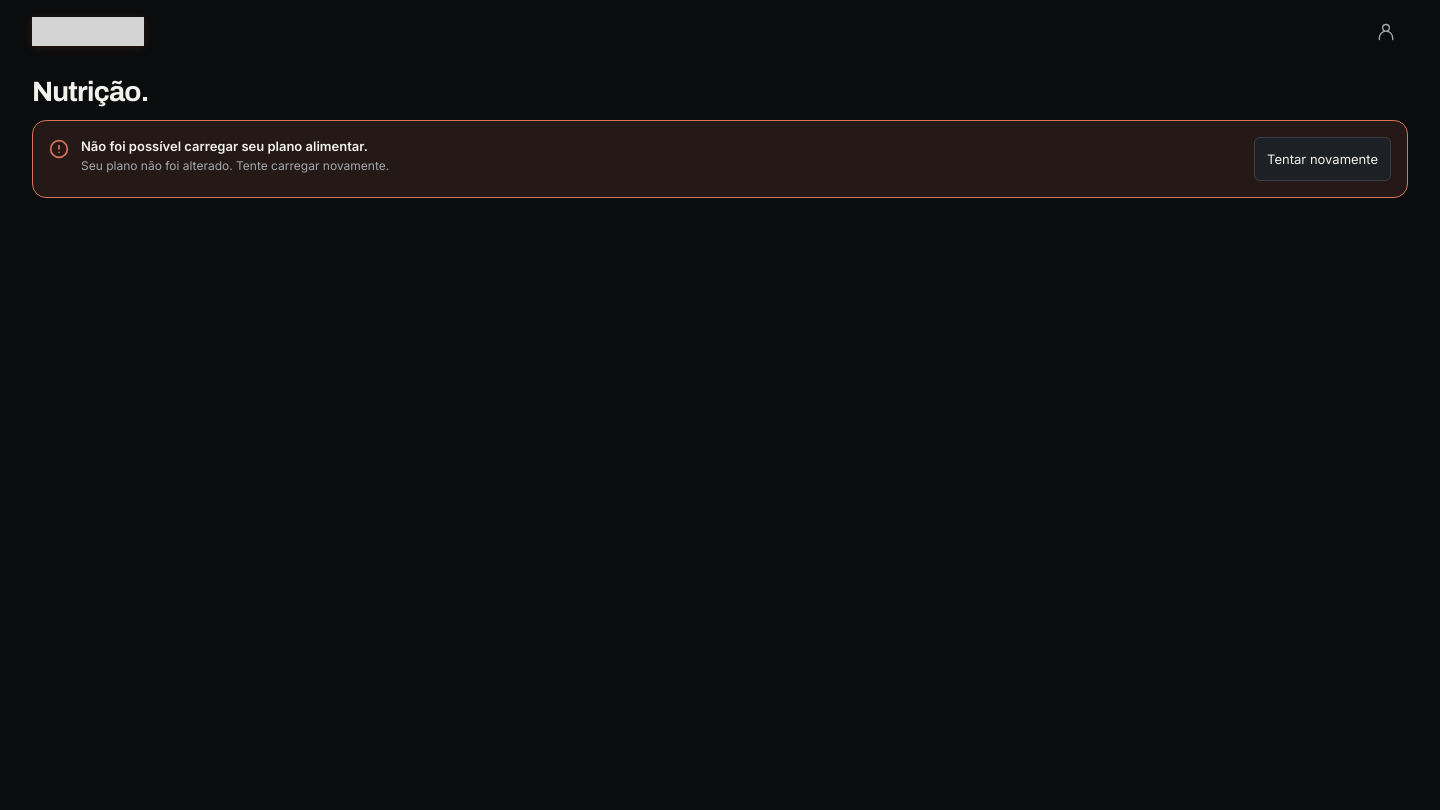
Test: Nutrition never opens onboarding for a server failure and retry preserves the existing plan
Expected: the message is shown, [32,120,1408,198]
Click the button "Tentar novamente": [1323, 159] box [1254,137,1391,181]
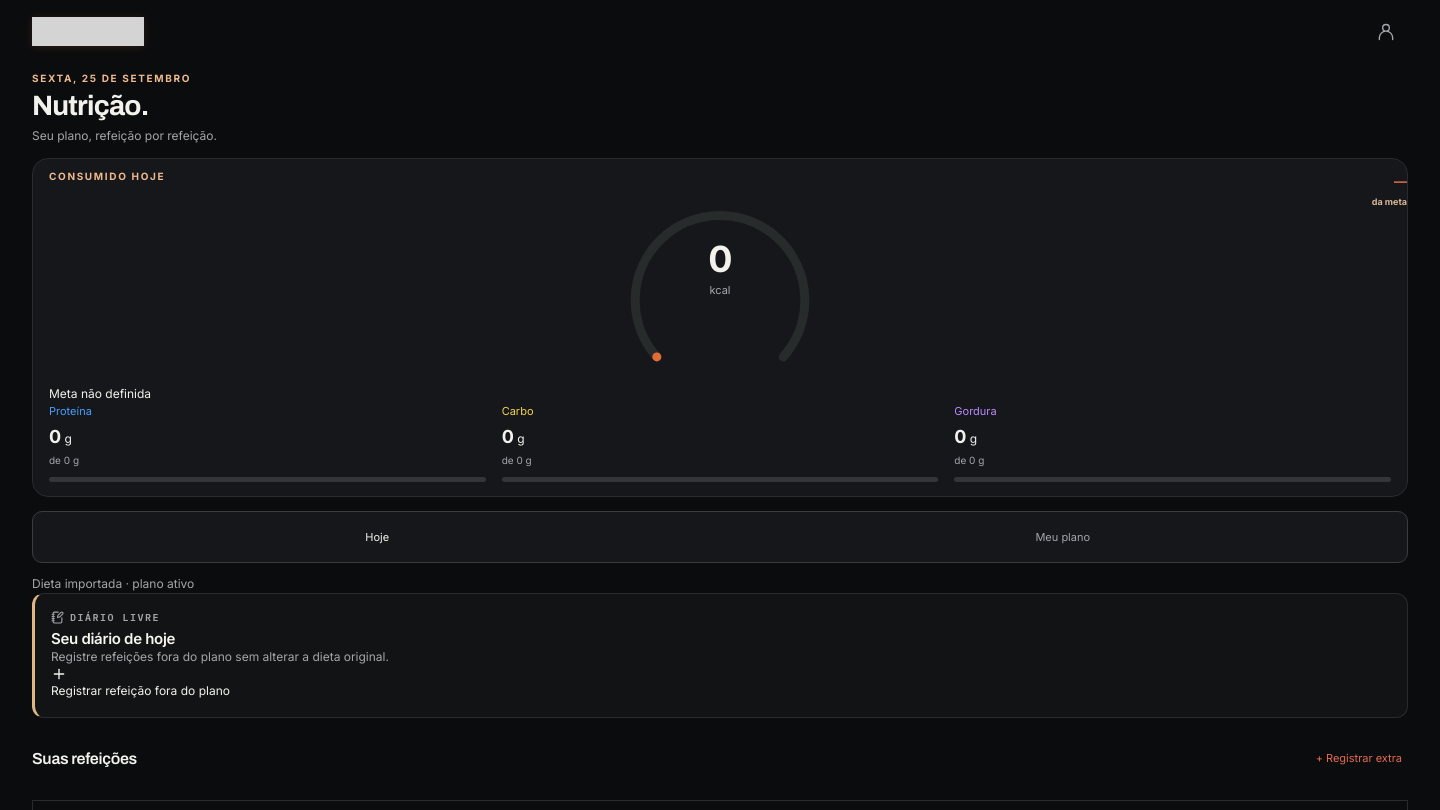
Now the text with test id "nutrition-plan-origin" shows "Dieta importada", box [32,576,194,591]
